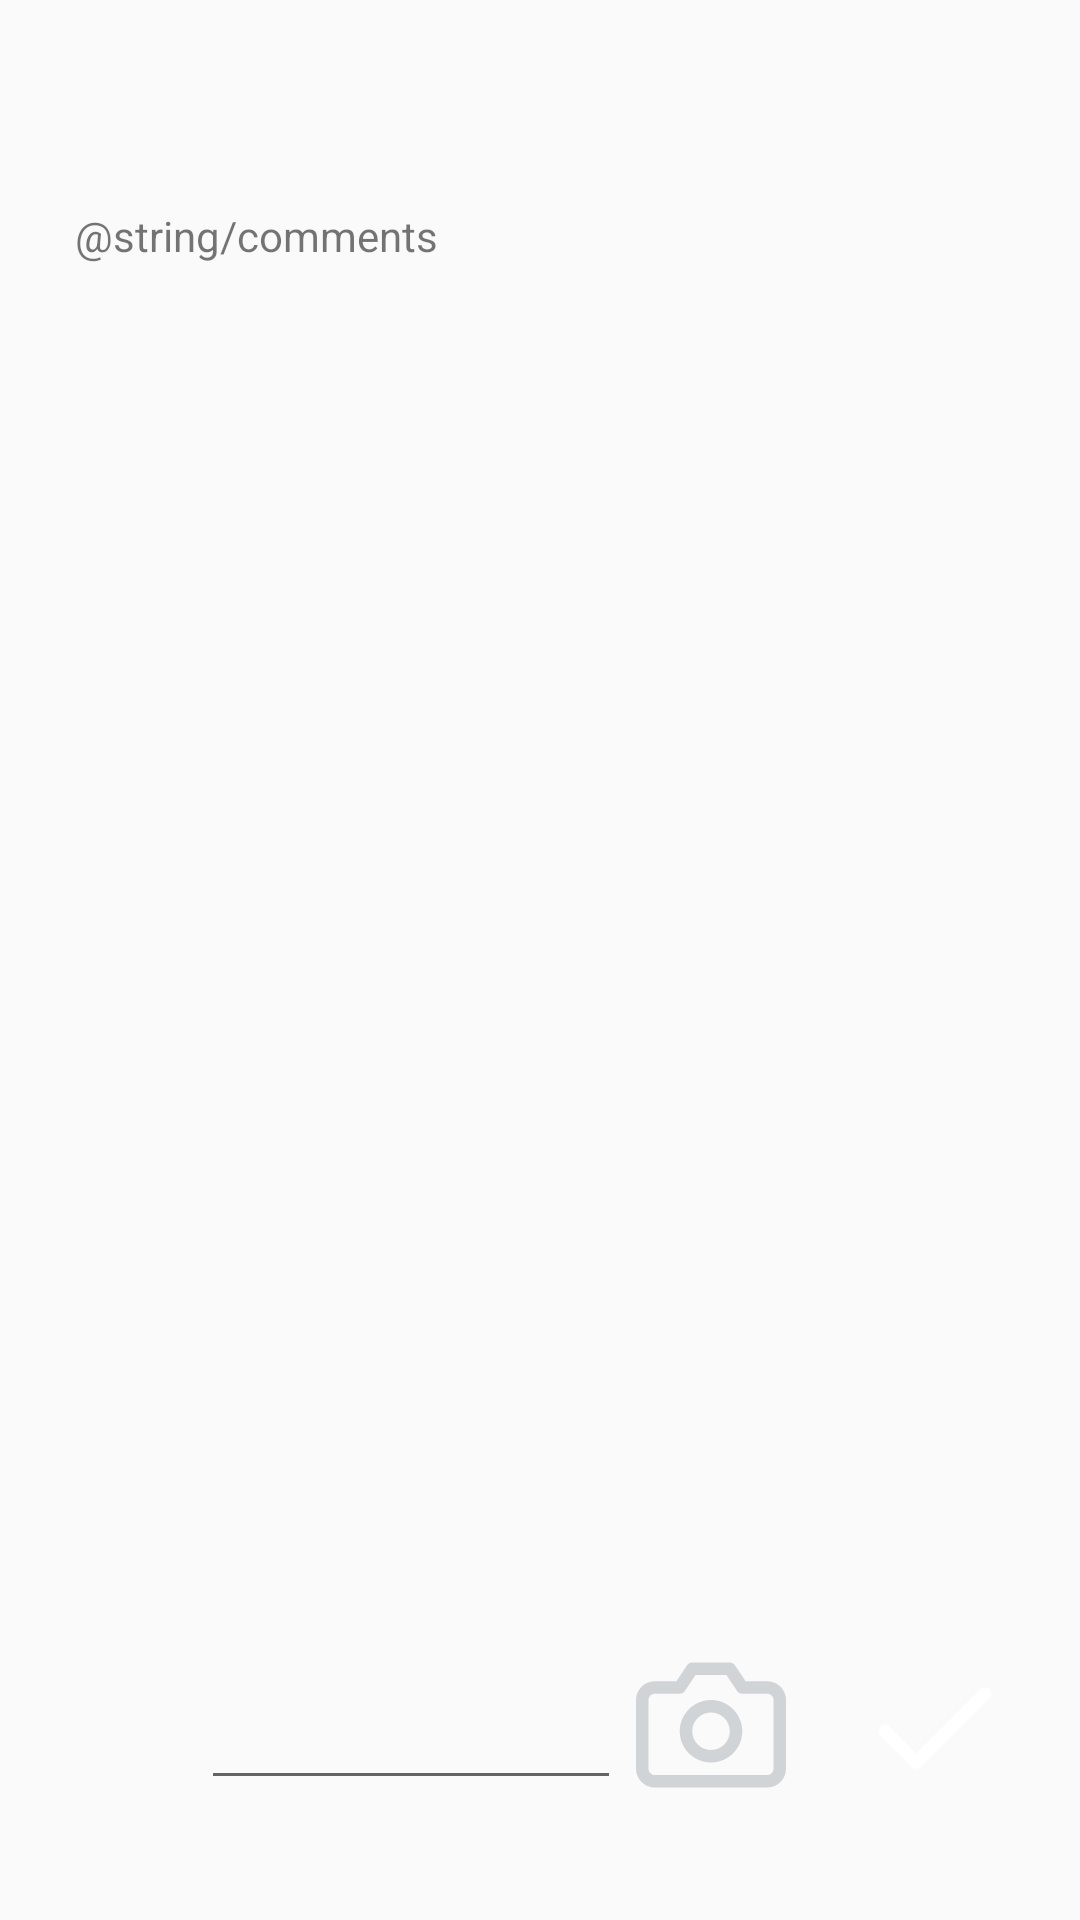

Where to tap for icons on this 1080px x 1920px app screen, as (x,y):
camera: (711,1725)
